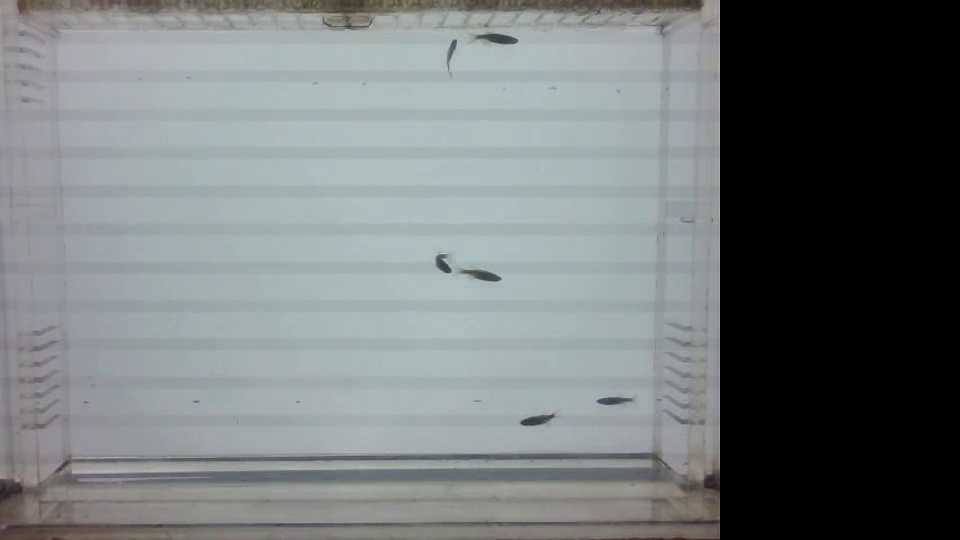fish: (513, 402, 564, 438), (452, 264, 504, 293), (428, 240, 460, 285), (584, 388, 644, 412), (433, 36, 464, 82), (461, 32, 524, 50)
